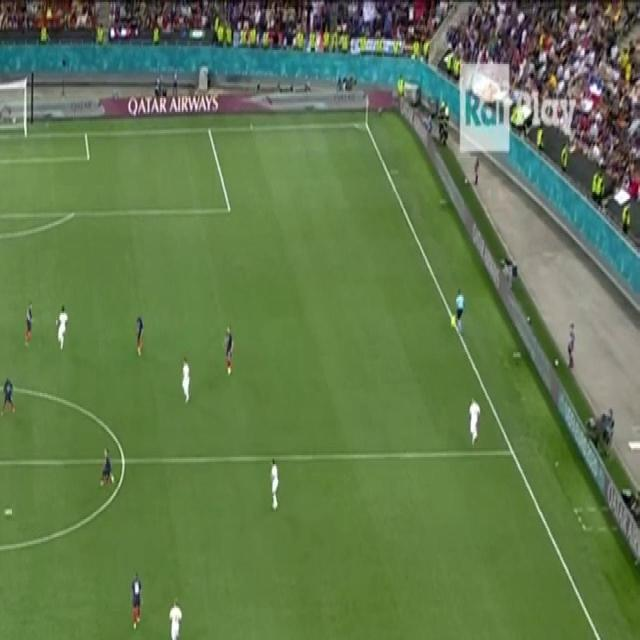ball: (3, 507, 13, 517), (463, 177, 469, 186), (555, 356, 559, 368)
player-white: (128, 570, 144, 632), (466, 396, 481, 448), (222, 323, 236, 376), (167, 595, 182, 640), (55, 304, 69, 352), (99, 446, 115, 488), (0, 375, 16, 416), (268, 457, 280, 511), (23, 300, 35, 348), (454, 288, 466, 336), (181, 356, 191, 404), (135, 314, 145, 358)
